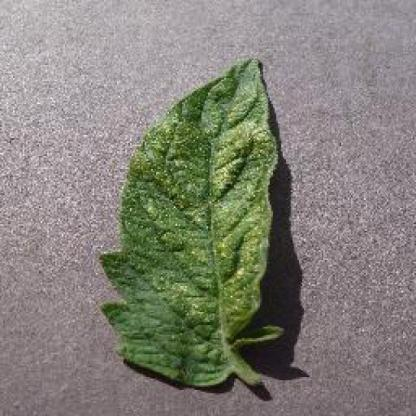Tomato_Spider_Mites: (104, 60, 282, 390)
